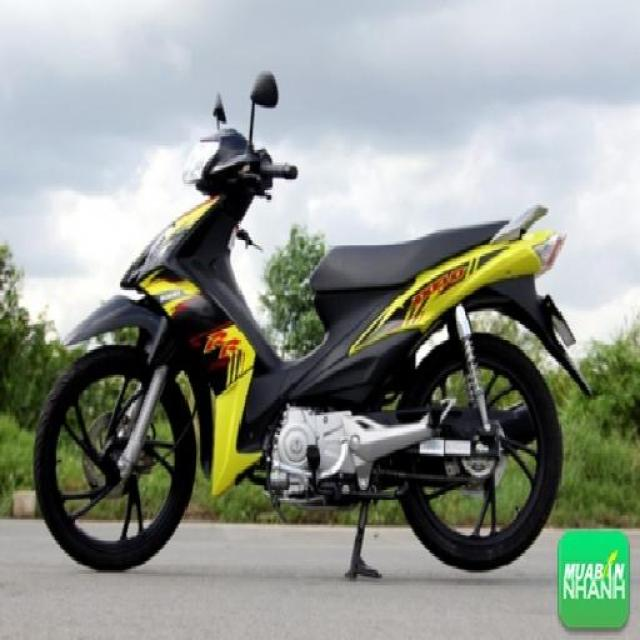All: (28, 104, 586, 572)
Head: (180, 122, 304, 204)
Tail: (484, 197, 572, 281)
